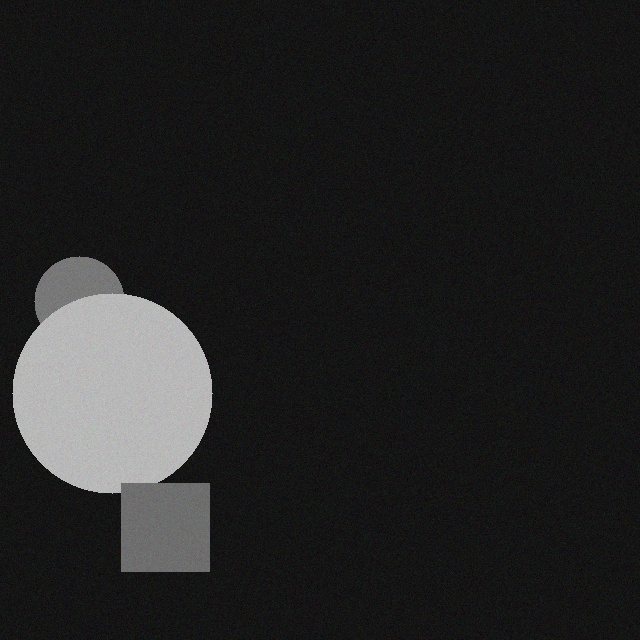circle: (7, 282, 207, 482), (29, 245, 119, 335)
square: (116, 472, 204, 560)
